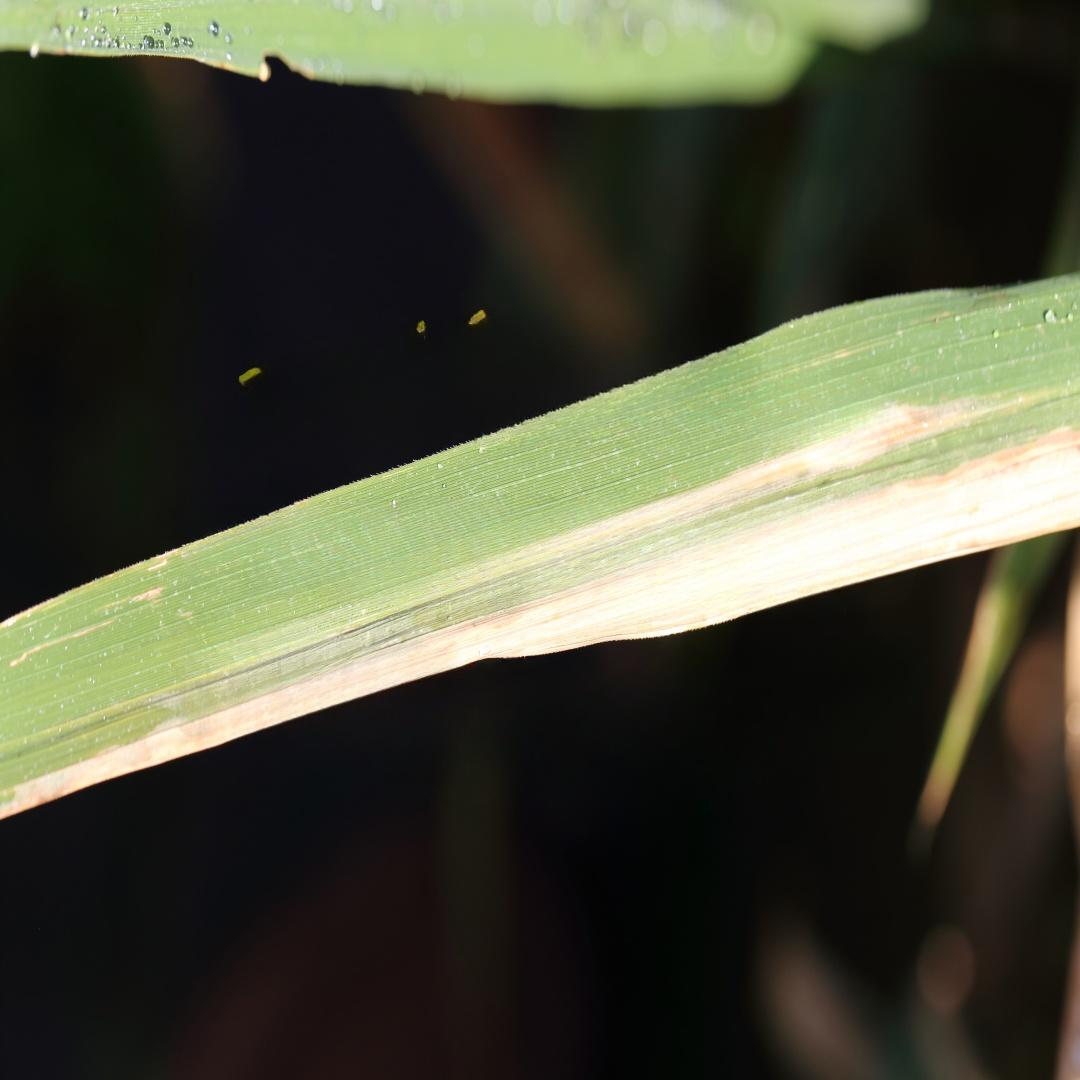BLB: (0, 423, 1078, 817), (338, 385, 1062, 637)
LEAF: (0, 276, 1079, 817)
